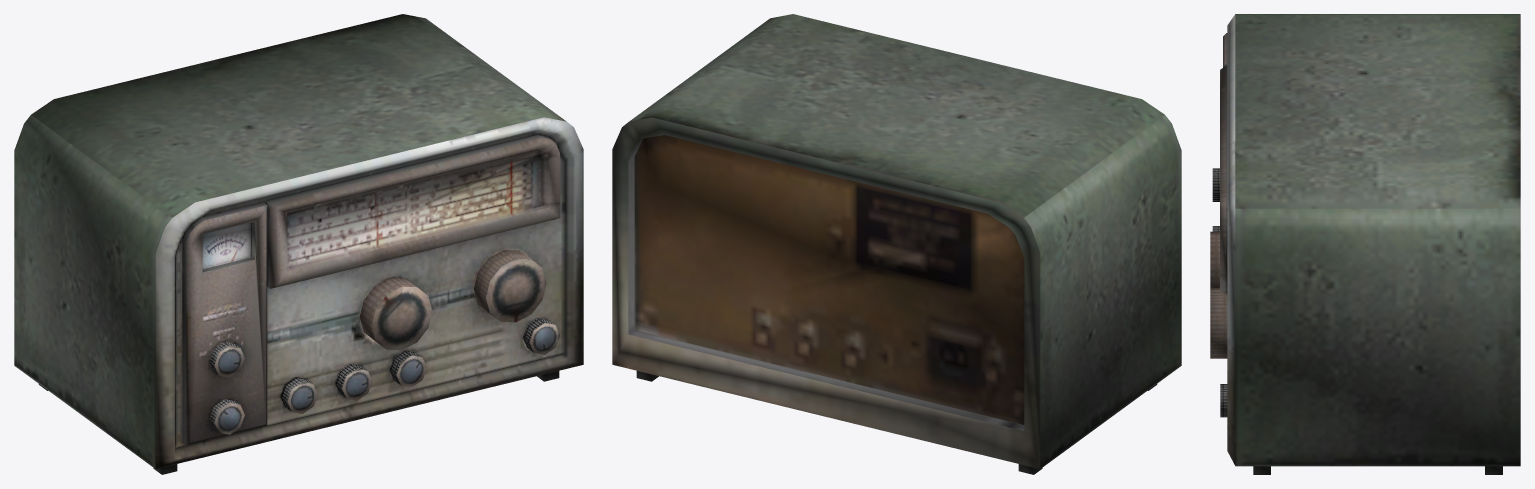
File: multiband_radio.obj
3 renders of one model, left to right at view 1: azimuth 30°, elevation 25°; view 2: azimuth 150°, elevation 25°; view 3: azimuth 270°, elevation 25°, orthographic.
Parts seen in each view (by area): view 1: Model001_4_shortwave_1_0_0; view 2: Model001_4_shortwave_1_0_0; view 3: Model001_4_shortwave_1_0_0.
Part boxes in pixels (x1,y1,x2,y2): Model001_4_shortwave_1_0_0: (14,14,583,474); Model001_4_shortwave_1_0_0: (612,14,1181,474); Model001_4_shortwave_1_0_0: (1210,14,1520,474).
Bounding box in the file's own units: 0.7139 × 0.4354 × 0.4439.
